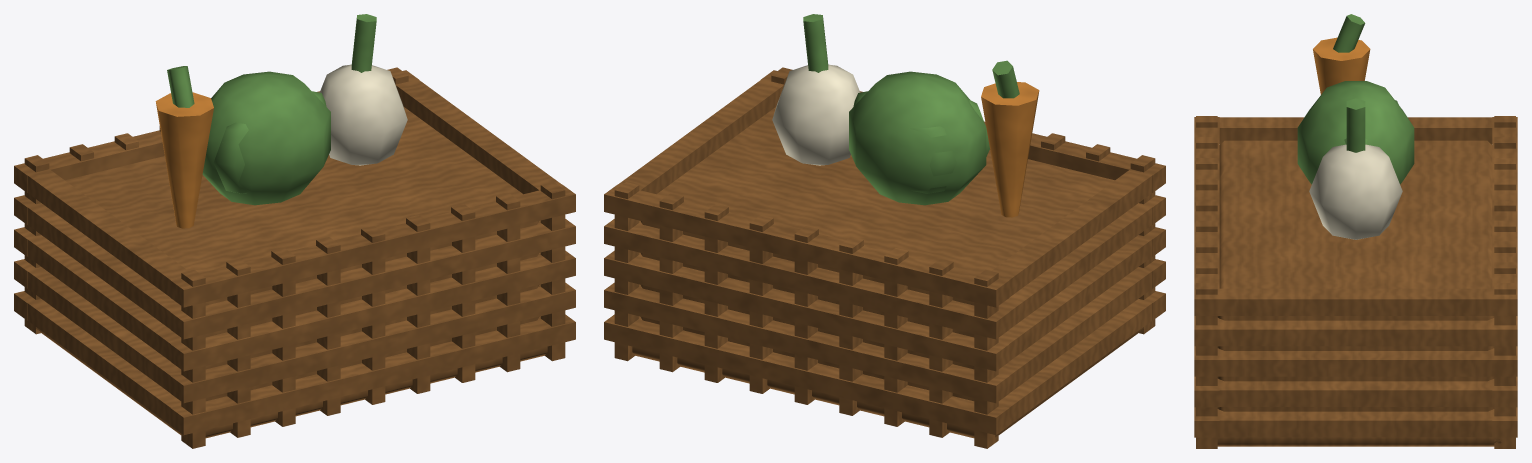
Rendered from Furn_BasketVeg.fbx.
The picture shows the model from 3 angles, left to right: view 1: azimuth 30°, elevation 25°; view 2: azimuth 150°, elevation 25°; view 3: azimuth 270°, elevation 25°; orthographic projection. The views are drawn at different scales.
Visible parts, largest first — view 1: Furn_BasketVeg_Mesh; view 2: Furn_BasketVeg_Mesh; view 3: Furn_BasketVeg_Mesh.
Part boxes in pixels (box(x1,y1,x2,y2)): Furn_BasketVeg_Mesh: box(14, 14, 575, 448); Furn_BasketVeg_Mesh: box(604, 14, 1165, 448); Furn_BasketVeg_Mesh: box(1194, 14, 1517, 448).
Size of the model in its own units: 0.6 by 0.45 by 0.45.
